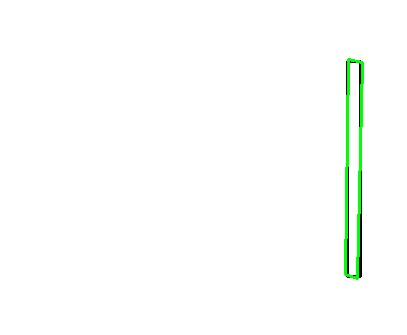line_segment: (345, 59, 363, 279)
